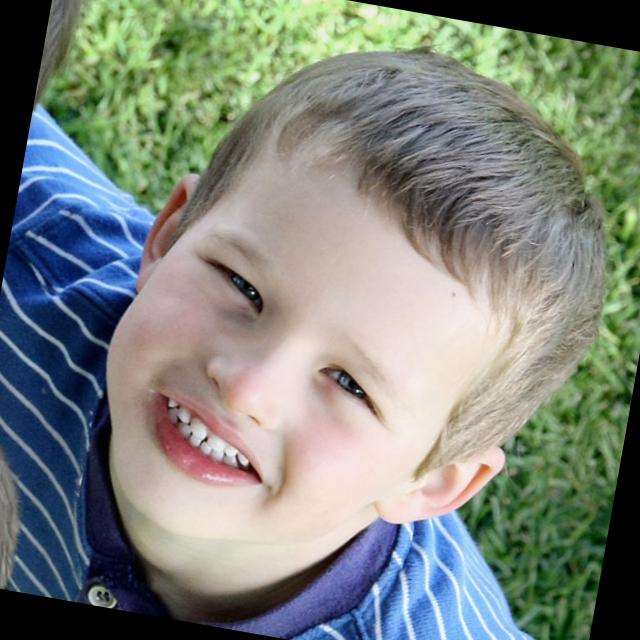face: (81, 9, 640, 604)
